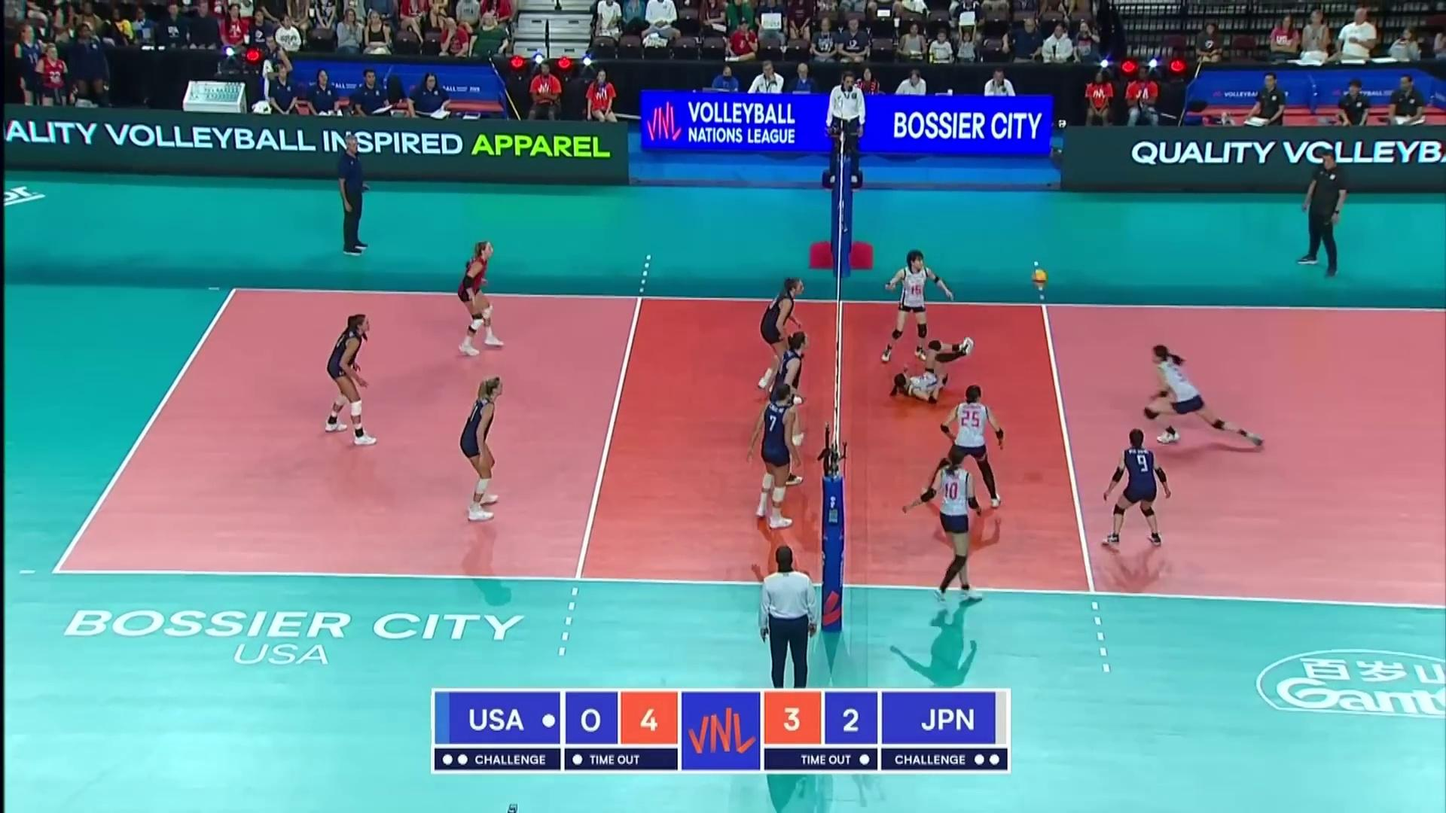player: (909, 444, 998, 605), (1135, 349, 1260, 452), (916, 384, 1010, 511), (749, 382, 816, 531), (1098, 430, 1172, 552), (758, 326, 817, 475), (454, 377, 512, 519), (758, 274, 817, 405), (321, 315, 378, 445), (882, 250, 940, 367), (892, 334, 977, 406), (456, 243, 508, 355)
refree: (757, 543, 834, 689), (822, 68, 868, 185)
